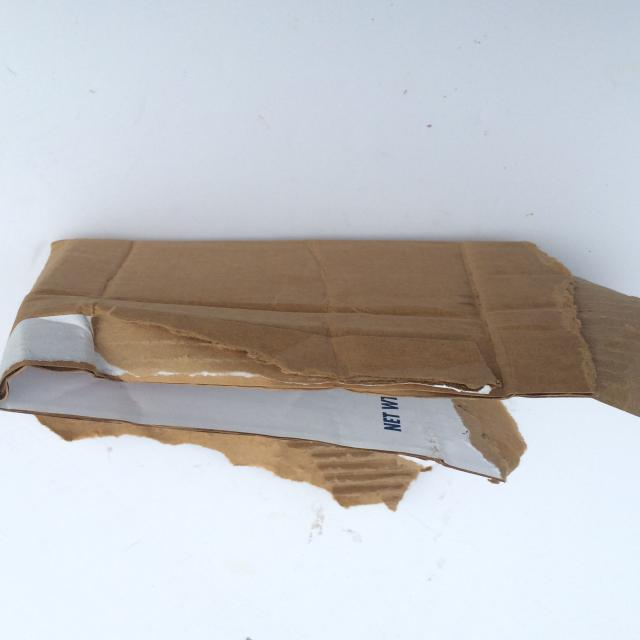Cardboard: (0, 173, 640, 589)
